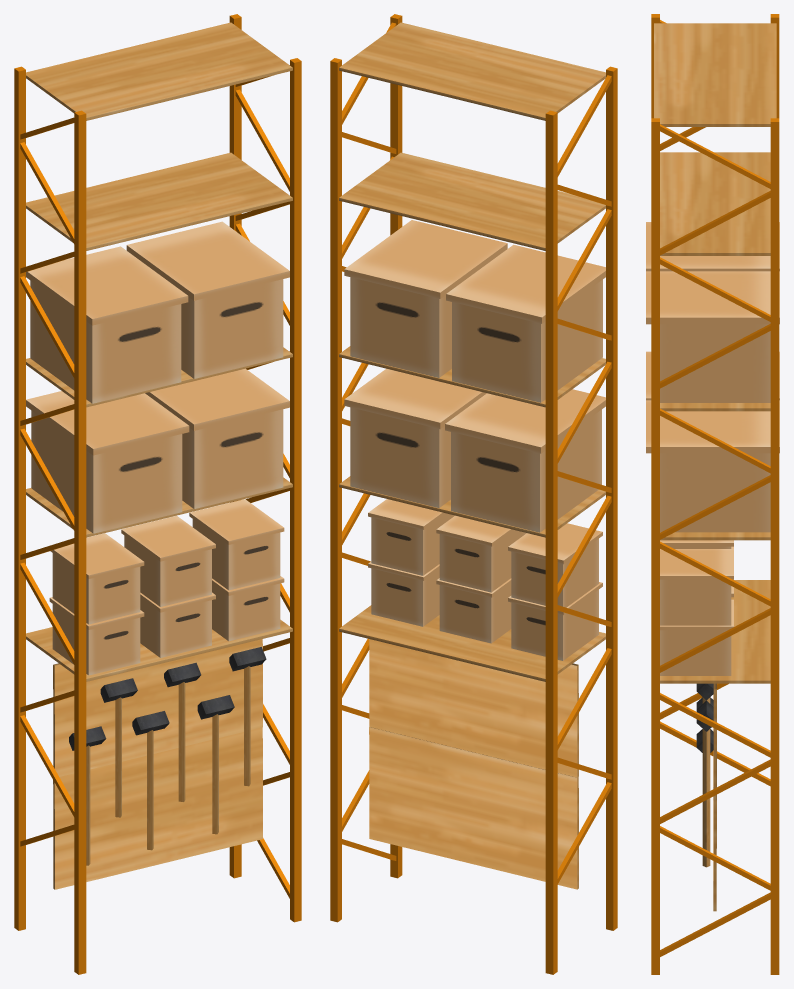
File: Sledge_Hammer_Rack.fbx
3 renders of one model, left to right at view 1: azimuth 30°, elevation 25°; view 2: azimuth 150°, elevation 25°; view 3: azimuth 270°, elevation 25°, orthographic.
Visible parts, largest first — view 1: Sledge_Hammer_Rack; view 2: Sledge_Hammer_Rack; view 3: Sledge_Hammer_Rack.
Boxes of the visible parts, bbox=[...] form: Sledge_Hammer_Rack: bbox=[14, 14, 301, 974]; Sledge_Hammer_Rack: bbox=[330, 14, 617, 974]; Sledge_Hammer_Rack: bbox=[646, 14, 779, 974].
Size of the model in its own units: 2 by 7.37 by 1.05.
